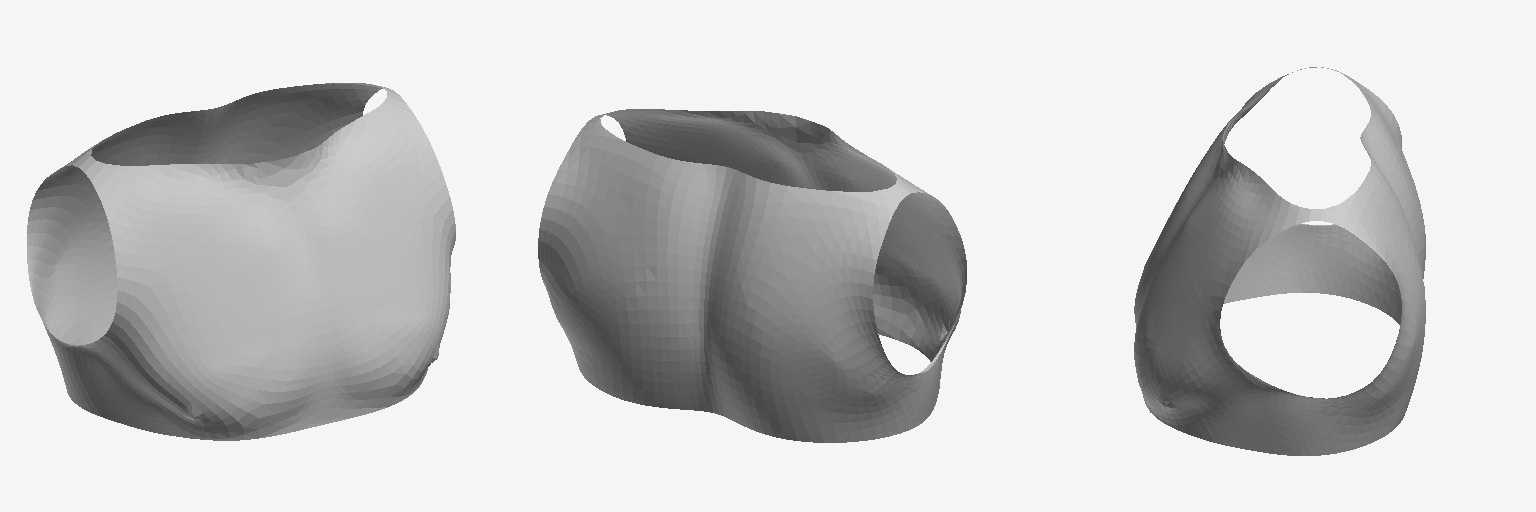
File: piept.obj
3 renders of one model, left to right at view 1: azimuth 30°, elevation 25°; view 2: azimuth 150°, elevation 25°; view 3: azimuth 270°, elevation 25°, orthographic.
Visible parts, largest first — view 1: piept; view 2: piept; view 3: piept.
Part boxes in pixels (bbox=[...]): piept: bbox=[27, 83, 455, 440]; piept: bbox=[538, 109, 966, 442]; piept: bbox=[1134, 67, 1425, 455].
Size of the model in its own units: 4.25 by 2.71 by 3.02.